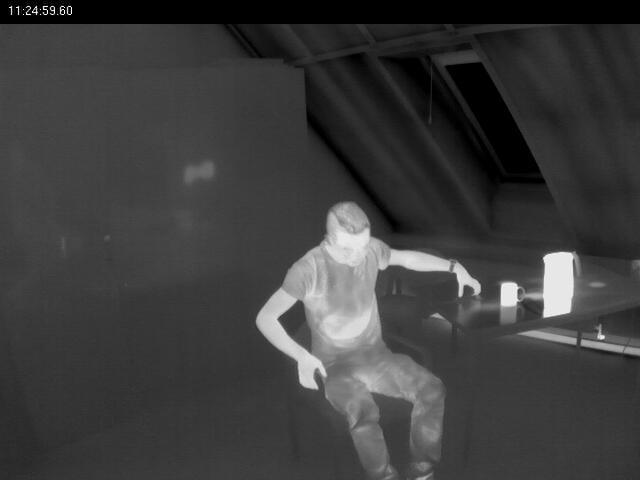person: (255, 200, 473, 479)
